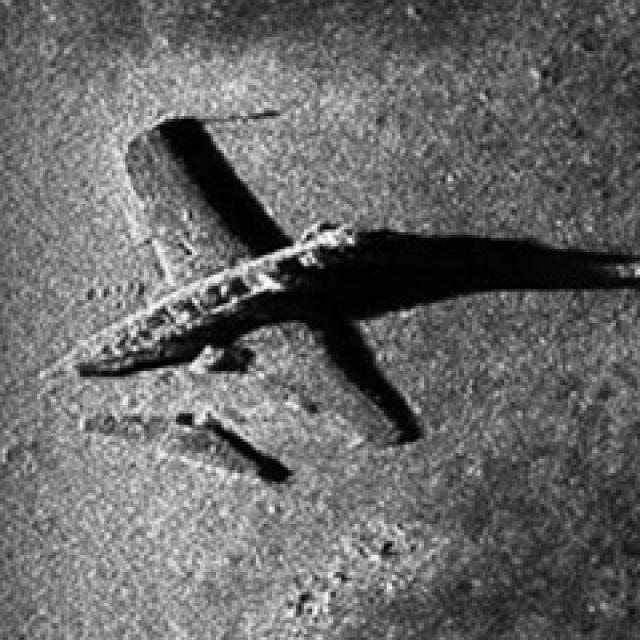plane: (46, 105, 446, 484)
